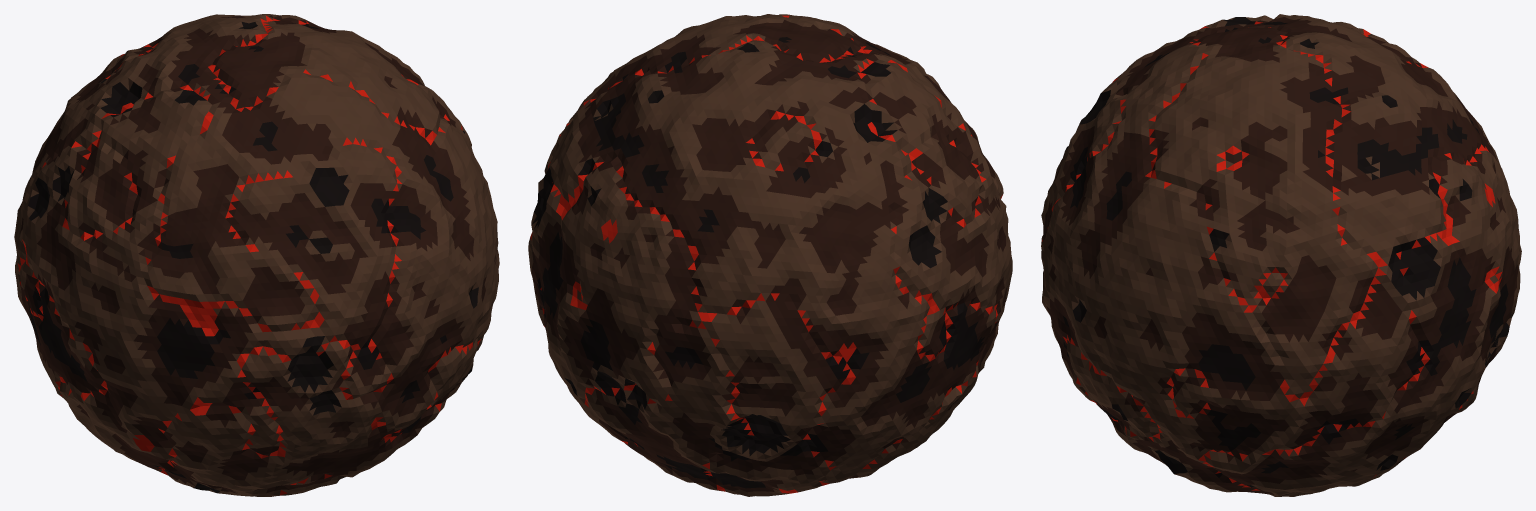
The model's file is CELESTIAL_09_RockyRoguePlanet.obj.
The picture shows the model from 3 angles, left to right: view 1: azimuth 30°, elevation 25°; view 2: azimuth 150°, elevation 25°; view 3: azimuth 270°, elevation 25°; orthographic projection.
Parts seen in each view (by area): view 1: CELESTIAL_09_RockyRoguePlanet_Rogue_Rocky; view 2: CELESTIAL_09_RockyRoguePlanet_Rogue_Rocky; view 3: CELESTIAL_09_RockyRoguePlanet_Rogue_Rocky.
Part boxes in pixels (left/top/right/bottom): CELESTIAL_09_RockyRoguePlanet_Rogue_Rocky: left=14, top=14, right=499, bottom=496; CELESTIAL_09_RockyRoguePlanet_Rogue_Rocky: left=528, top=14, right=1012, bottom=496; CELESTIAL_09_RockyRoguePlanet_Rogue_Rocky: left=1041, top=14, right=1521, bottom=496.
Bounding box in the file's own units: 2.04 × 2.04 × 2.03.
